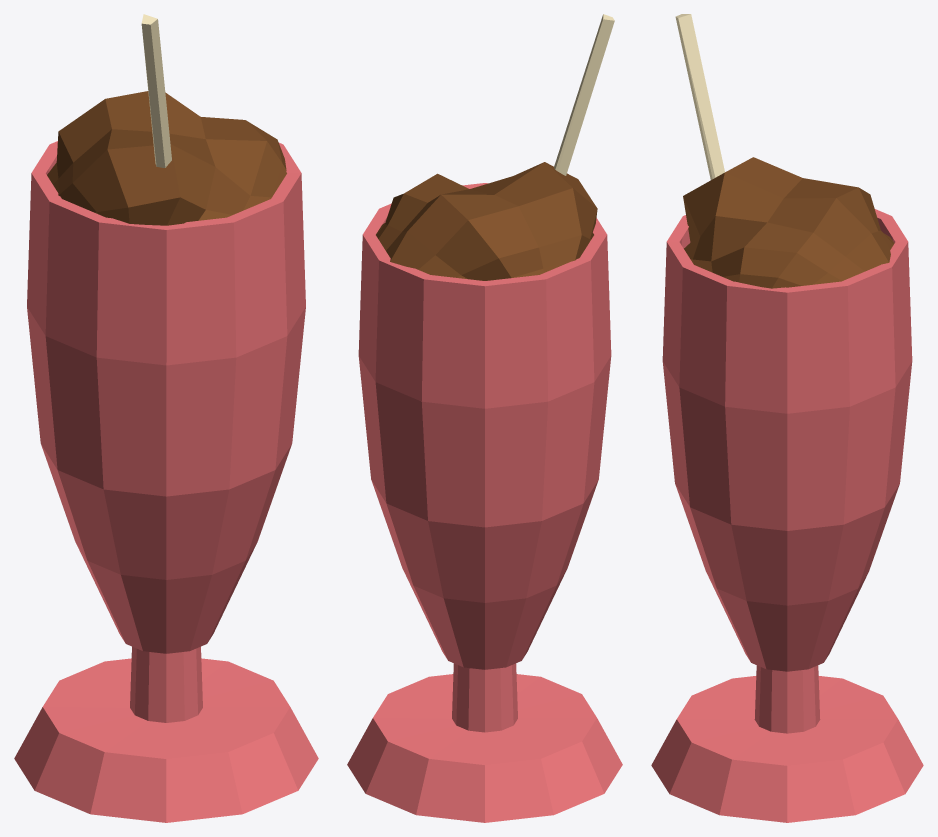
File: milkshake.fbx
The picture shows the model from 3 angles, left to right: view 1: azimuth 30°, elevation 25°; view 2: azimuth 150°, elevation 25°; view 3: azimuth 270°, elevation 25°; orthographic projection. The views are drawn at different scales.
Visible parts, largest first — view 1: Circle; view 2: Circle; view 3: Circle.
Part boxes in pixels (x1,y1,x2,y2): Circle: (14,14,318,822); Circle: (347,14,622,822); Circle: (651,14,923,822).
Bounding box in the file's own units: 0.1019 × 0.2961 × 0.1019.
Materials: 1 (1 with a texture image).
